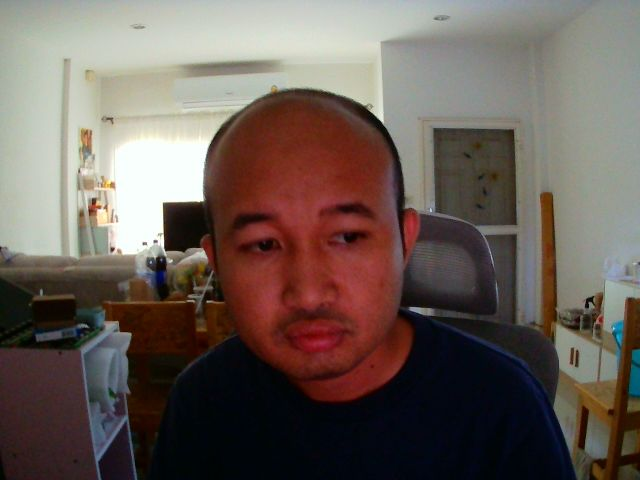face: (209, 91, 408, 380)
